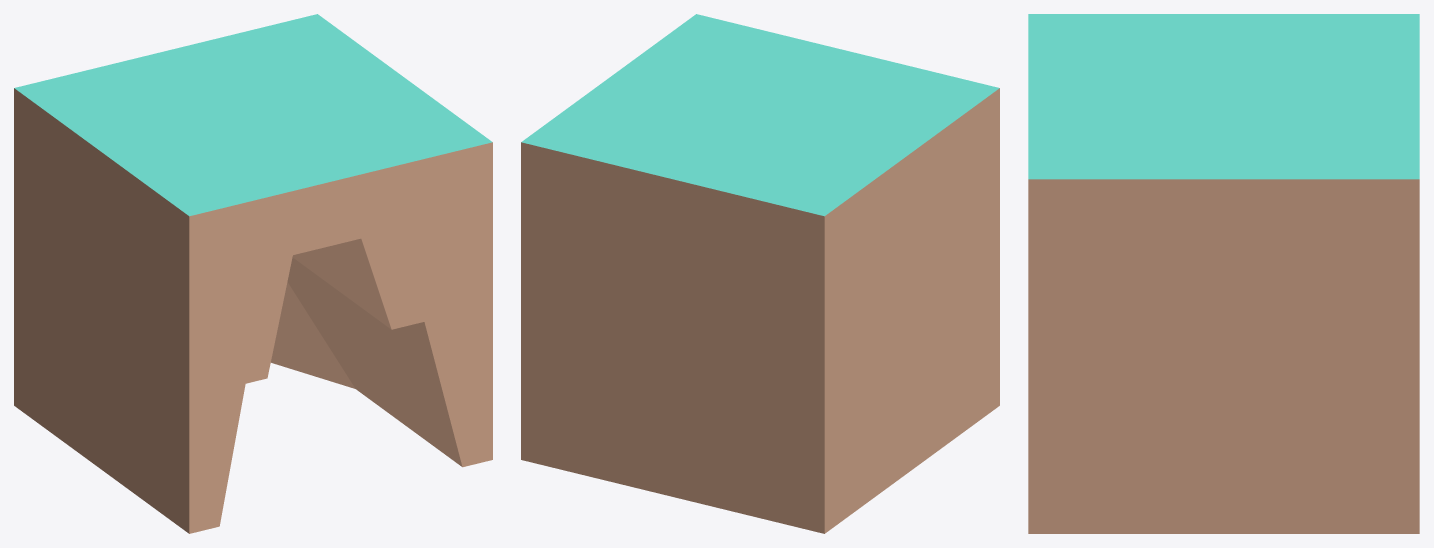
File: cliff_blockCave_rock.gltf
The picture shows the model from 3 angles, left to right: view 1: azimuth 30°, elevation 25°; view 2: azimuth 150°, elevation 25°; view 3: azimuth 270°, elevation 25°; orthographic projection. The views are drawn at different scales.
Visible parts, largest first — view 1: cliff_blockCave_rock; view 2: cliff_blockCave_rock; view 3: cliff_blockCave_rock.
Boxes of the visible parts, x1=… form: cliff_blockCave_rock: x1=14, y1=14, x2=492, y2=533; cliff_blockCave_rock: x1=521, y1=14, x2=999, y2=533; cliff_blockCave_rock: x1=1028, y1=14, x2=1419, y2=533.
Bounding box in the file's own units: 1 × 1 × 1.
